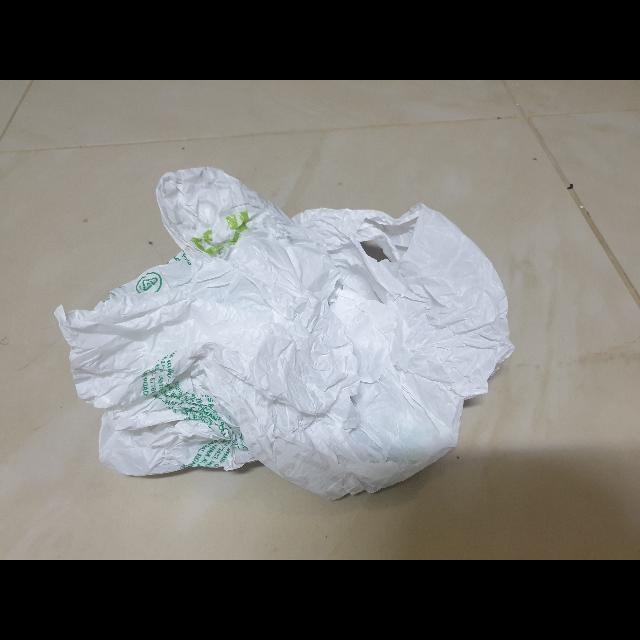plastic_bag: (52, 163, 520, 502)
